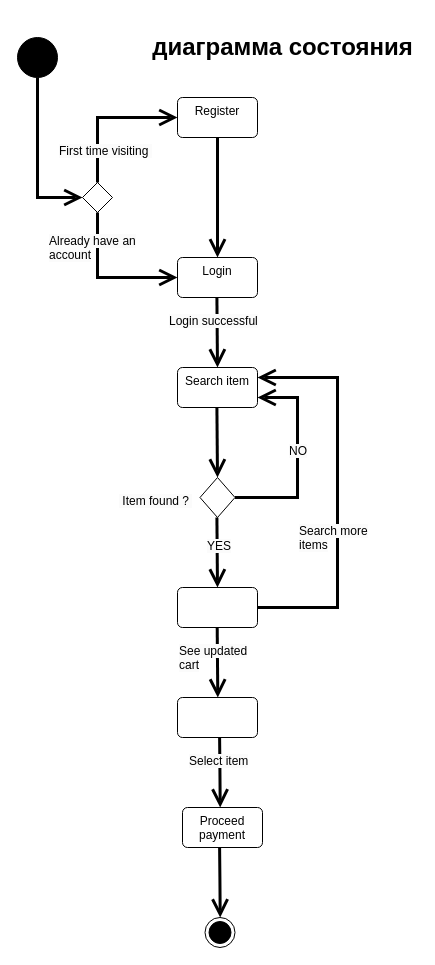
Some shapes in this 435 by 965 pixel diagram are drawn without their labels. Here are the shapes that lost their labels. From the top down, the box of each, then its label:
(176, 586, 258, 628): Add to cart
(176, 696, 258, 738): Go to shopping cart
